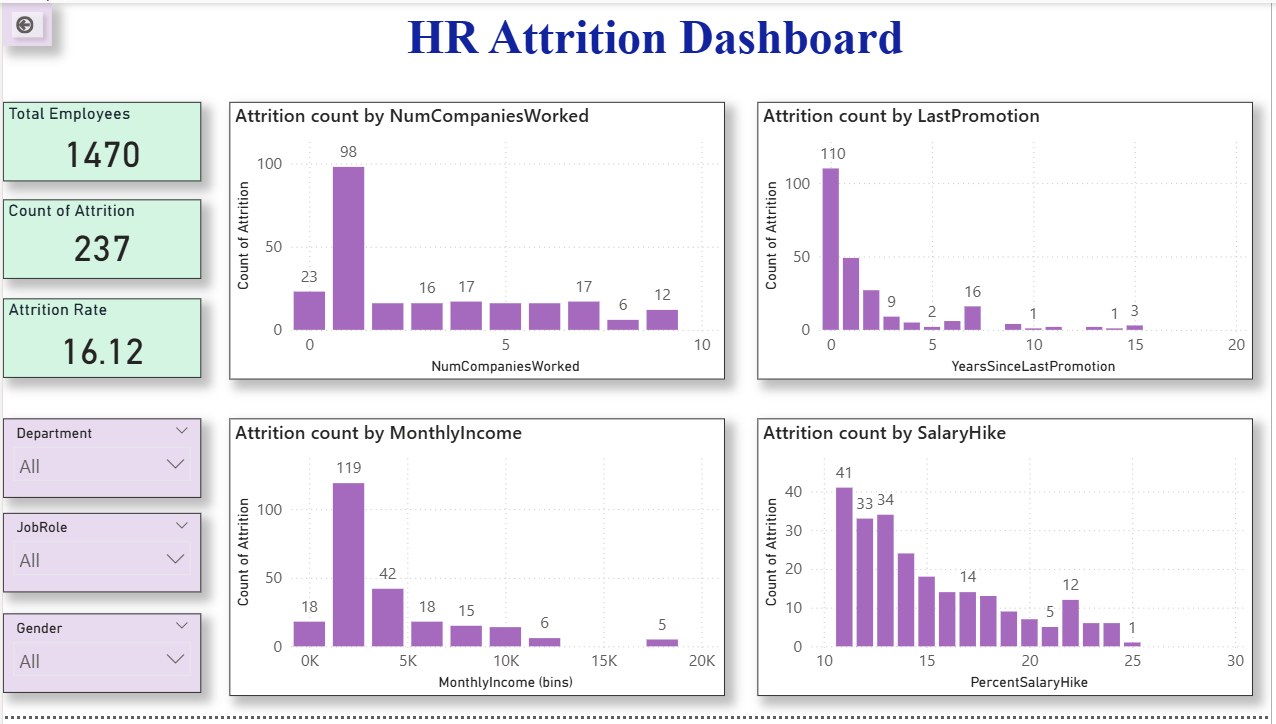

What the dashboard file says about the page in this screenshot:
{"tool":"powerbi","page":{"name":"Compensation & Growth Analysis","canvas":[1280,720],"ordinal":1},"visuals":[{"type":"clusteredColumnChart","title":" Attrition count by LastPromotion","fields":{"Y":["CountNonNull(WA_Fn-UseC_-HR-Employee-Attrition.Attrition)"],"Category":["WA_Fn-UseC_-HR-Employee-Attrition.YearsSinceLastPromotion"]},"box":[761.7,100,500,280],"z":0},{"type":"clusteredColumnChart","title":"Attrition count by SalaryHike","fields":{"Category":["WA_Fn-UseC_-HR-Employee-Attrition.PercentSalaryHike"],"Y":["CountNonNull(WA_Fn-UseC_-HR-Employee-Attrition.Attrition)"]},"box":[761.7,420,500,280],"z":1000},{"type":"clusteredColumnChart","title":"Attrition count by MonthlyIncome","fields":{"Y":["CountNonNull(WA_Fn-UseC_-HR-Employee-Attrition.Attrition)"],"Category":["WA_Fn-UseC_-HR-Employee-Attrition.MonthlyIncome (bins)"]},"box":[228.3,420,500,280],"z":2000},{"type":"clusteredColumnChart","title":"Attrition count by NumCompaniesWorked","fields":{"Category":["WA_Fn-UseC_-HR-Employee-Attrition.NumCompaniesWorked"],"Y":["CountNonNull(WA_Fn-UseC_-HR-Employee-Attrition.Attrition)"]},"box":[228.3,100,500,280],"z":3000},{"type":"textbox","box":[228.7,1.9,859.8,83.2],"z":4000},{"type":"card","title":"Total Employees","fields":{"Values":["CountNonNull(WA_Fn-UseC_-HR-Employee-Attrition.EmployeeNumber)"]},"box":[0,100,200,80],"z":5000},{"type":"kpi","title":"Count of Attrition ","fields":{"TrendLine":["WA_Fn-UseC_-HR-Employee-Attrition.Attrition"],"Indicator":["CountNonNull(WA_Fn-UseC_-HR-Employee-Attrition.Attrition)"]},"box":[0,198.3,200,80],"z":6000},{"type":"card","title":"Attrition Rate","fields":{"Values":["WA_Fn-UseC_-HR-Employee-Attrition.Attrition Rate"]},"box":[0,298.3,200,80],"z":7000},{"type":"slicer","fields":{"Values":["WA_Fn-UseC_-HR-Employee-Attrition.Department"]},"box":[0,420,200,80],"z":8000},{"type":"slicer","fields":{"Values":["WA_Fn-UseC_-HR-Employee-Attrition.JobRole"]},"box":[0,515,200,80],"z":9000},{"type":"slicer","fields":{"Values":["WA_Fn-UseC_-HR-Employee-Attrition.Gender"]},"box":[0,616.7,200,80],"z":10000},{"type":"actionButton","box":[0,0,49.1,43.5],"z":11000}]}

Visuals, with their boxes in screenshot pixels (x1, y1, x2, y2), scaled from the page's 1280x720 canvas onto the 1276x724 screenshot:
" Attrition count by LastPromotion" clusteredColumnChart: crop(759, 101, 1258, 382)
"Attrition count by SalaryHike" clusteredColumnChart: crop(759, 422, 1258, 704)
"Attrition count by MonthlyIncome" clusteredColumnChart: crop(228, 422, 726, 704)
"Attrition count by NumCompaniesWorked" clusteredColumnChart: crop(228, 101, 726, 382)
textbox: crop(228, 2, 1085, 86)
"Total Employees" card: crop(0, 101, 199, 181)
"Count of Attrition " kpi: crop(0, 199, 199, 280)
"Attrition Rate" card: crop(0, 300, 199, 380)
slicer - WA_Fn-UseC_-HR-Employee-Attrition.Department: crop(0, 422, 199, 503)
slicer - WA_Fn-UseC_-HR-Employee-Attrition.JobRole: crop(0, 518, 199, 598)
slicer - WA_Fn-UseC_-HR-Employee-Attrition.Gender: crop(0, 620, 199, 701)
actionButton: crop(0, 0, 49, 44)
